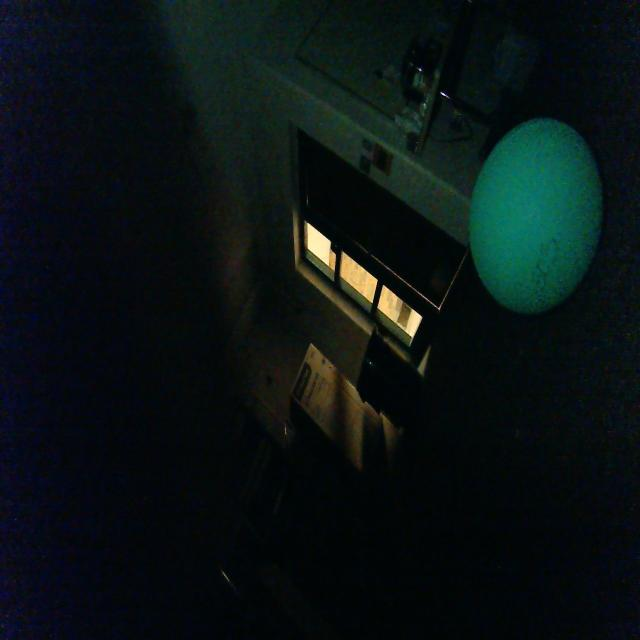algae: (466, 111, 606, 319)
